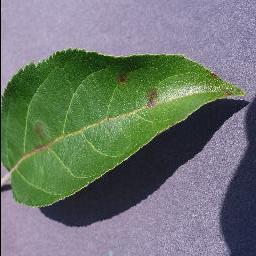apple healthy: (0, 46, 246, 208)
